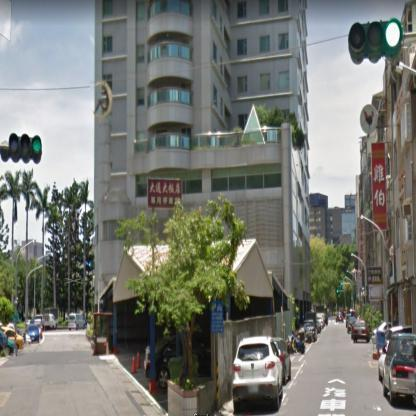Green Light: (348, 18, 403, 56), (6, 131, 44, 161)
